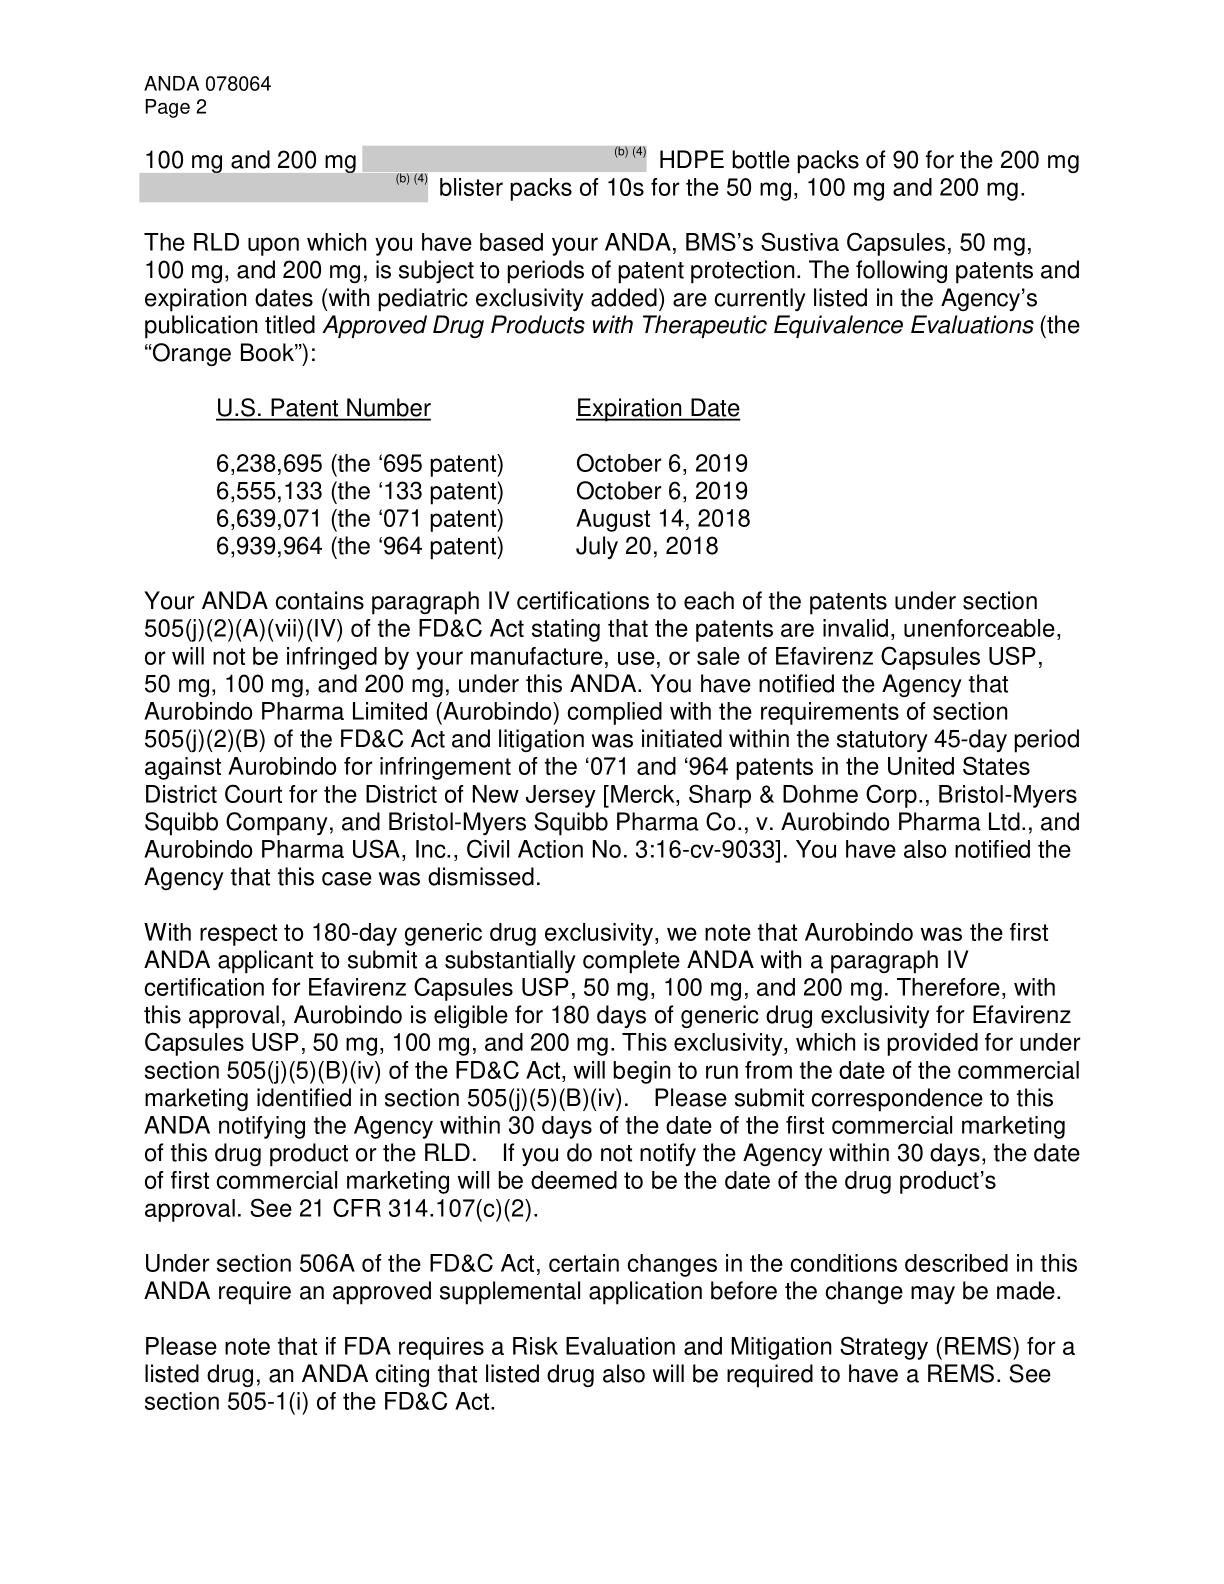nolines: (210, 393, 751, 561)
